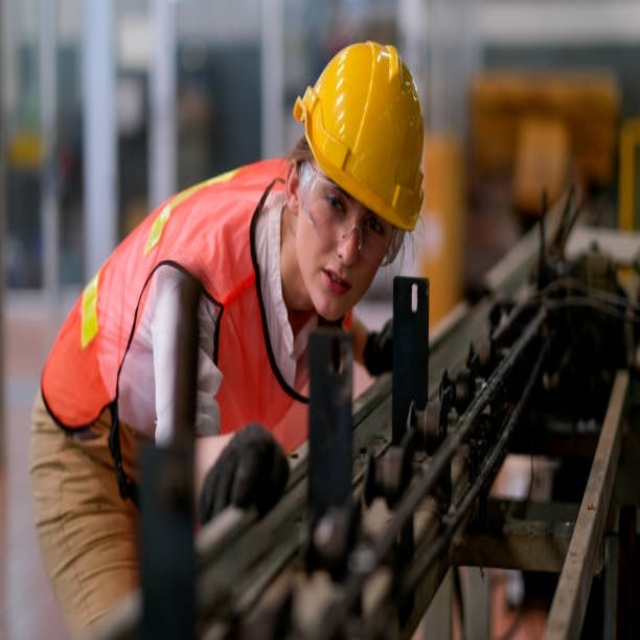Gafas: (298, 160, 400, 269)
Guantes: (198, 421, 290, 523)
Sin_mascara: (310, 264, 360, 309)
